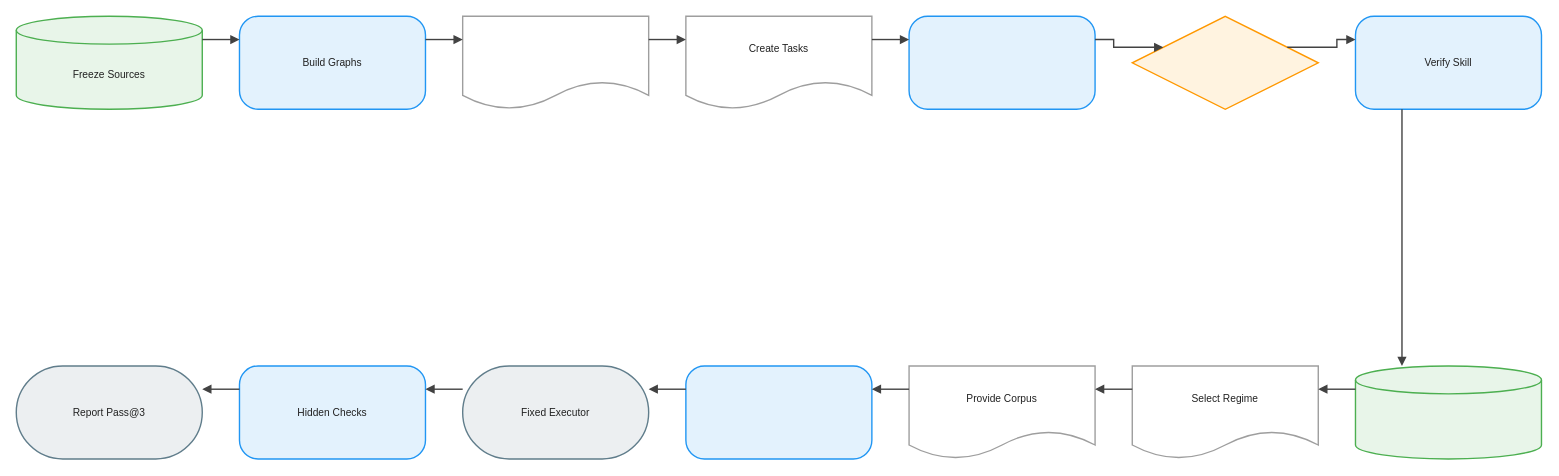
This 1559x476 diagram has some shape labels left out. The box of each missing label's shape, as (x1, y1, x2, y2) in pixels:
Filter Trivial: (1131, 15, 1319, 110)
Freeze 187: (1354, 365, 1542, 459)
Generate Skill: (685, 365, 872, 459)
Plan Scenarios: (462, 15, 649, 110)
Refine Tests: (908, 15, 1095, 110)
